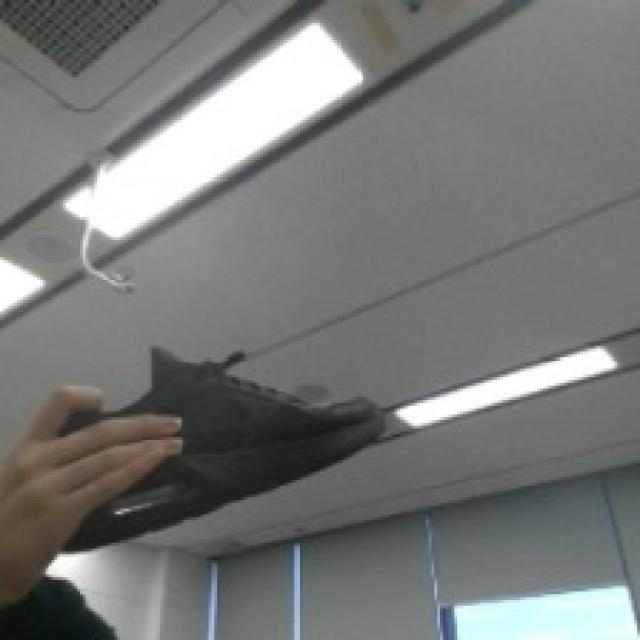shoes: (20, 327, 418, 549)
